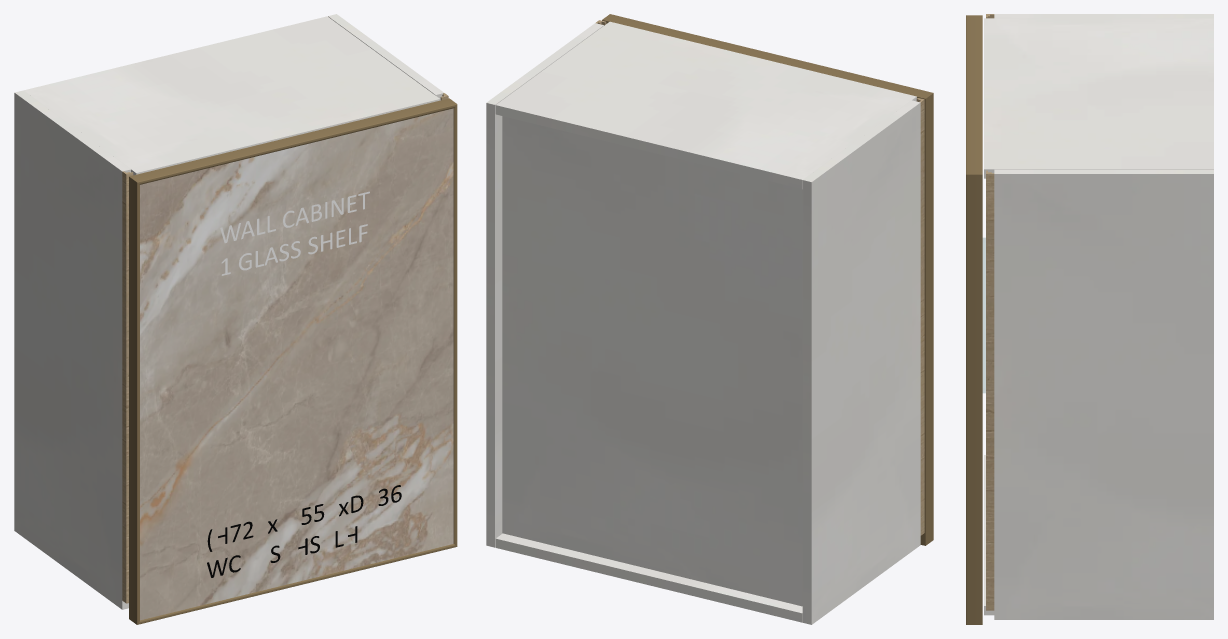
Rendered from WC-SH-NHX-ST-1SG-LHS-XXX-550-725-336-15.glb.
3 renders of one model, left to right at view 1: azimuth 30°, elevation 25°; view 2: azimuth 150°, elevation 25°; view 3: azimuth 270°, elevation 25°, orthographic.
Visible parts, largest first — view 1: Object_node_4, TP_node_0, TP, Extrusion_node_1, Extrusion, Object_node_6, Extrusion_node, 2D text_node, Extrusion_node_0, TP_node_1, 2D text_node_0, 2D text; view 2: TP_node_2, TP_node_0, TP, TP_node_1, TP_node, Extrusion_node_1, Extrusion, Object_node_6; view 3: TP_node_1, TP, Extrusion_node, Object_node_14, Extrusion, TP_node_0, Object_node_1, TP_node.
Boxes of the visible parts, <box> form: Object_node_4: <box>140,108,453,620</box>; TP_node_0: <box>14,90,130,609</box>; TP: <box>23,16,440,175</box>; Extrusion_node_1: <box>129,177,139,624</box>; Extrusion: <box>129,98,457,184</box>; Object_node_6: <box>122,171,133,603</box>; Extrusion_node: <box>453,105,457,546</box>; 2D text_node: <box>220,191,369,275</box>; Extrusion_node_0: <box>137,544,456,624</box>; TP_node_1: <box>328,14,443,100</box>; 2D text_node_0: <box>207,485,401,551</box>; 2D text: <box>207,526,357,577</box>; TP_node_2: <box>502,116,802,606</box>; TP_node_0: <box>802,100,920,624</box>; TP: <box>495,21,916,189</box>; TP_node_1: <box>486,23,603,547</box>; TP_node: <box>495,533,802,622</box>; Extrusion_node_1: <box>920,93,933,545</box>; Extrusion: <box>602,14,932,99</box>; Object_node_6: <box>916,98,924,535</box>; TP_node_1: <box>994,169,1213,619</box>; TP: <box>984,18,1213,178</box>; Extrusion_node: <box>966,174,982,624</box>; Object_node_14: <box>986,170,994,610</box>; Extrusion: <box>966,15,982,174</box>; TP_node_0: <box>994,14,1213,18</box>; Object_node_1: <box>983,238,985,392</box>; TP_node: <box>984,455,994,615</box>.
Size of what is drawn, in the model's own units: 0.55 by 0.7235 by 0.366.
Materials: 7 (3 with a texture image).
